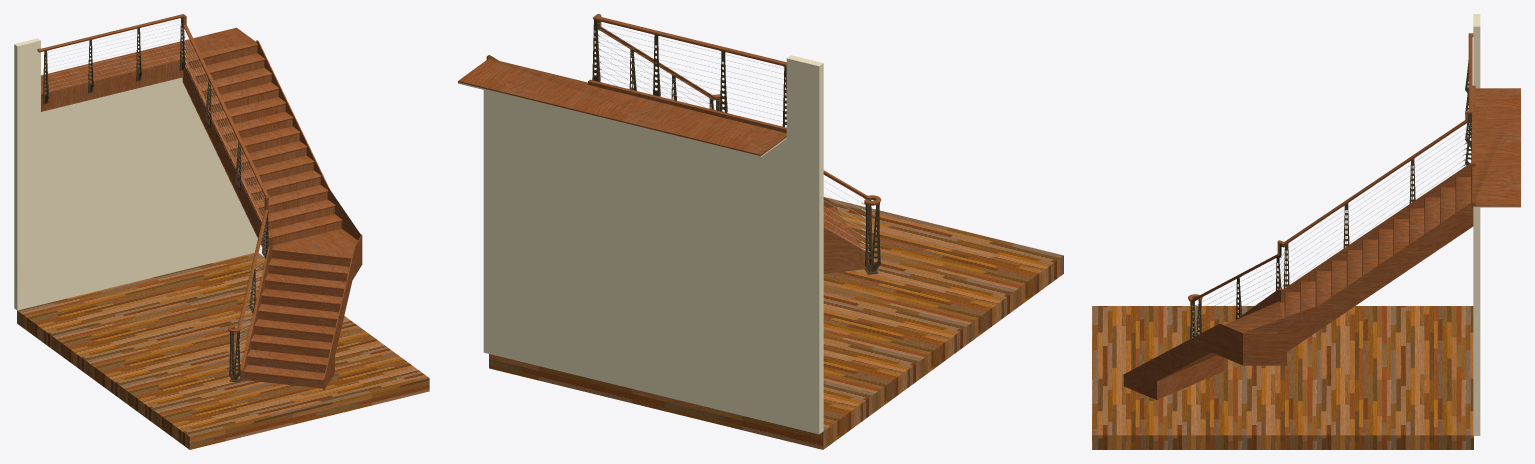
3 views of the same model, side by side, from view 1: azimuth 30°, elevation 25°; view 2: azimuth 150°, elevation 25°; view 3: azimuth 270°, elevation 25° (orthographic). The views are drawn at different scales.
Parts seen in each view (by area): view 1: BODY_6_PRT, BODY_4_PRT, BODY_83_PRT, BODY_0_PRT, BODY_1_PRT, BODY_3_PRT, BODY_41_PRT; view 2: BODY_6_PRT, BODY_83_PRT, BODY_4_PRT, BODY_1_PRT, BODY_41_PRT, BODY_0_PRT; view 3: BODY_83_PRT, BODY_4_PRT, BODY_6_PRT, BODY_0_PRT.
Boxes of the visible parts, <box> form: BODY_6_PRT: <box>14,38,257,310</box>; BODY_4_PRT: <box>41,27,362,389</box>; BODY_83_PRT: <box>17,253,429,449</box>; BODY_0_PRT: <box>183,24,268,196</box>; BODY_1_PRT: <box>37,14,182,52</box>; BODY_3_PRT: <box>237,209,268,327</box>; BODY_41_PRT: <box>229,328,240,382</box>; BODY_6_PRT: <box>458,55,823,434</box>; BODY_83_PRT: <box>489,197,1063,449</box>; BODY_4_PRT: <box>458,55,868,273</box>; BODY_1_PRT: <box>593,16,786,66</box>; BODY_41_PRT: <box>864,198,880,274</box>; BODY_0_PRT: <box>600,27,716,99</box>; BODY_83_PRT: <box>1092,306,1473,449</box>; BODY_4_PRT: <box>1123,85,1520,399</box>; BODY_6_PRT: <box>1473,14,1520,435</box>; BODY_0_PRT: <box>1282,120,1467,245</box>.
Size of the model in its own units: 5028 by 5532 by 7011.
9 materials, 4 textured.
